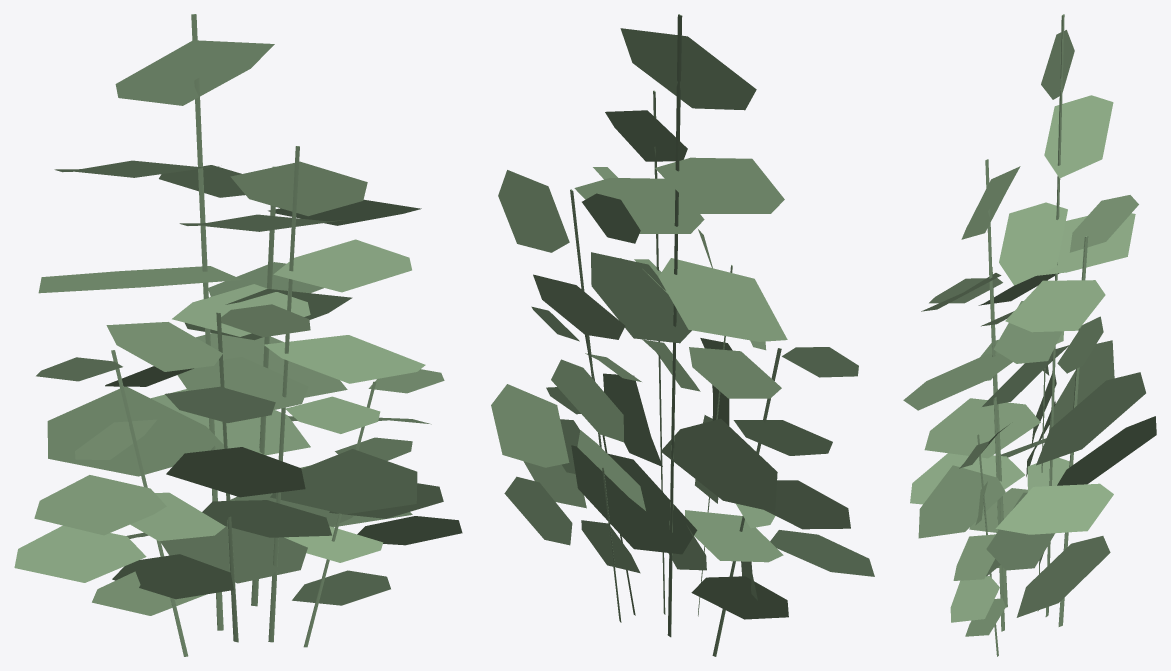
The model's file is plant_green.dae.
The picture shows the model from 3 angles, left to right: view 1: azimuth 30°, elevation 25°; view 2: azimuth 150°, elevation 25°; view 3: azimuth 270°, elevation 25°; orthographic projection. The views are drawn at different scales.
Visible parts, largest first — view 1: Merged_Meshes1; view 2: Merged_Meshes1; view 3: Merged_Meshes1.
Boxes of the visible parts, bbox=[...] form: Merged_Meshes1: bbox=[14, 14, 462, 656]; Merged_Meshes1: bbox=[491, 14, 874, 656]; Merged_Meshes1: bbox=[903, 14, 1156, 656].
Bounding box in the file's own units: 1.81 × 2.74 × 1.04.
